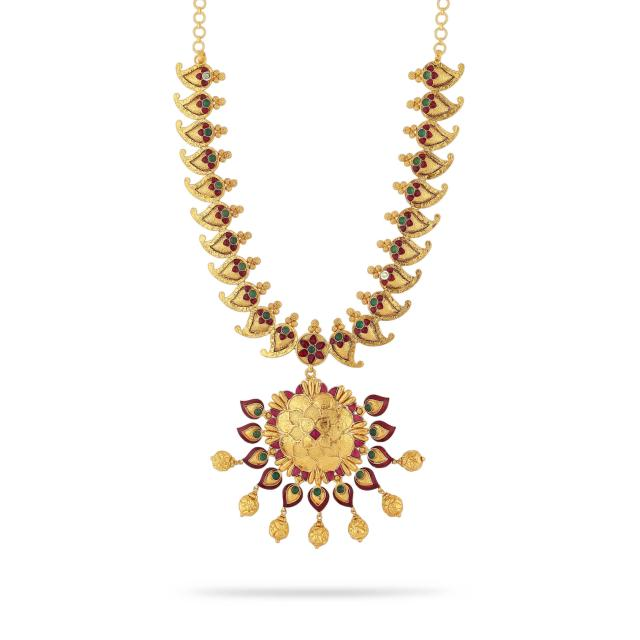missing gem: (381, 271, 389, 280), (203, 72, 211, 80)
